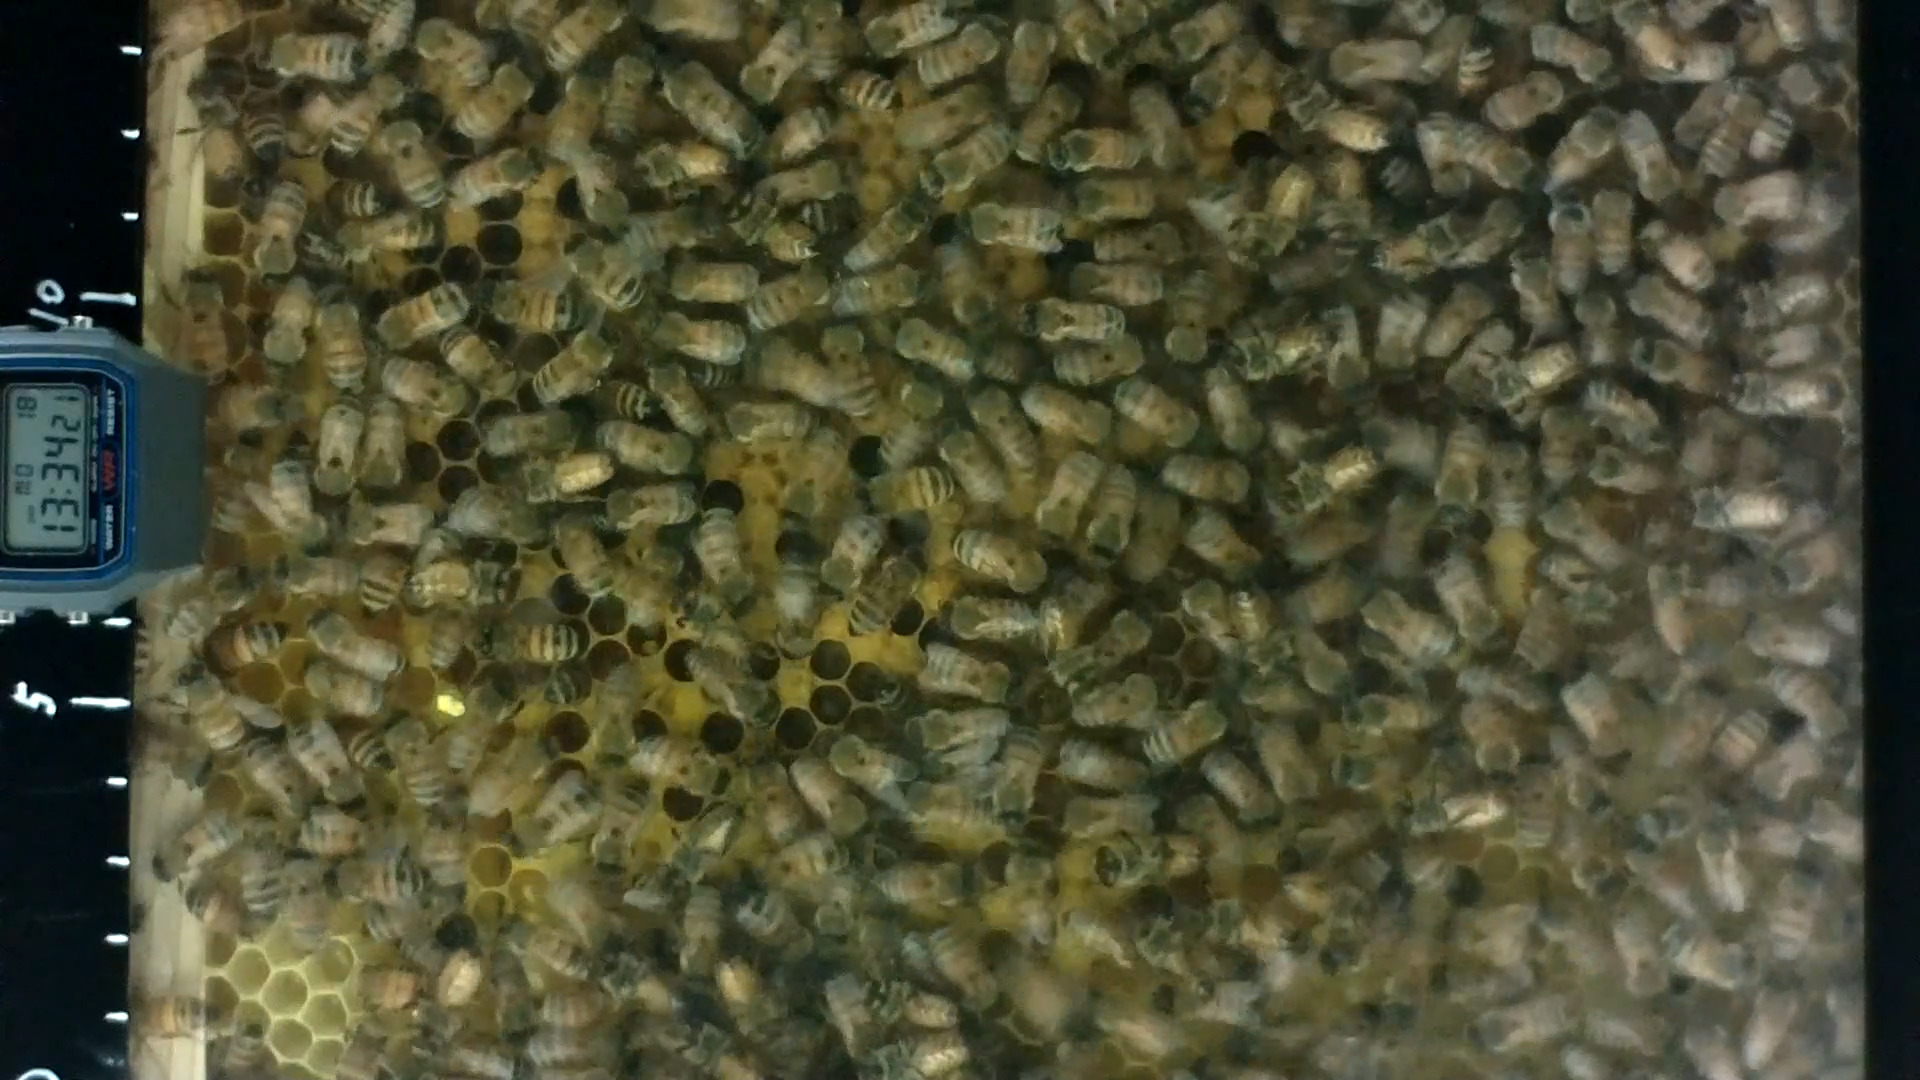hati: (1180, 498, 1273, 584), (945, 527, 1058, 597), (303, 611, 417, 676), (680, 651, 771, 731), (252, 30, 375, 88), (382, 109, 452, 211), (1429, 547, 1502, 642), (885, 311, 972, 389), (694, 504, 761, 604), (538, 69, 608, 165), (840, 186, 923, 266), (923, 124, 1011, 199), (1112, 377, 1203, 450), (448, 142, 546, 208), (381, 715, 450, 808), (524, 328, 613, 400), (371, 281, 468, 345), (475, 270, 578, 331), (957, 208, 1073, 261), (1344, 684, 1447, 744), (653, 255, 767, 307), (996, 716, 1044, 840), (644, 303, 745, 363), (477, 407, 578, 467), (165, 560, 248, 632), (819, 320, 876, 423), (592, 477, 695, 534), (1095, 833, 1204, 886), (1149, 692, 1225, 767), (858, 467, 964, 521), (737, 26, 808, 104), (338, 495, 435, 551), (818, 502, 881, 589), (315, 284, 365, 392), (310, 400, 361, 502), (360, 400, 414, 495), (1048, 128, 1138, 185), (264, 280, 315, 377), (324, 858, 419, 911), (1013, 297, 1126, 340), (481, 615, 587, 661), (1484, 434, 1538, 524), (243, 808, 287, 915), (1548, 193, 1592, 301), (596, 785, 649, 872), (599, 53, 649, 144), (998, 12, 1046, 107), (919, 30, 1000, 80), (860, 3, 944, 50), (261, 179, 301, 278), (1073, 262, 1174, 301)
